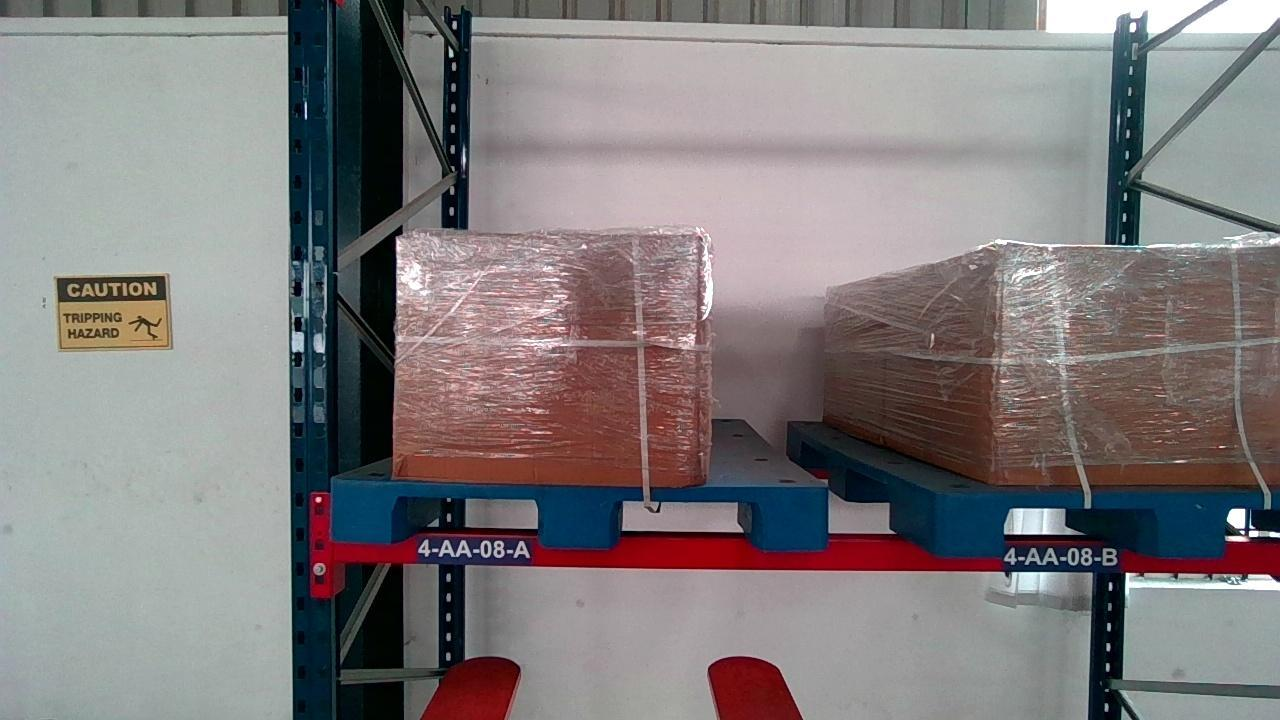h_rack: (330, 535, 1280, 569)
small_pallet: (330, 483, 831, 552), (950, 493, 1278, 560)
